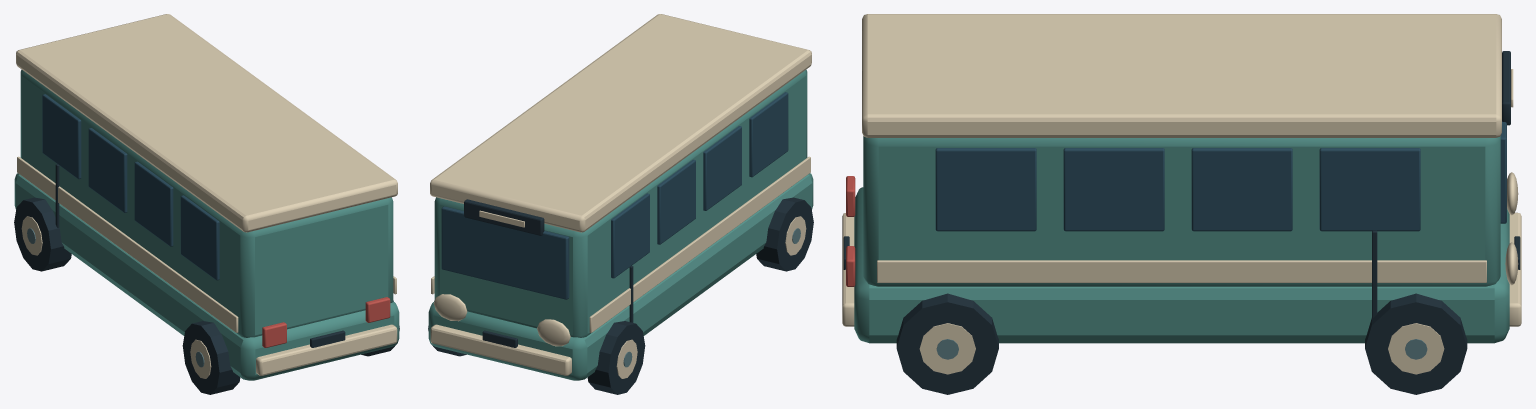
Rendered from bus.glb.
3 renders of one model, left to right at view 1: azimuth 30°, elevation 25°; view 2: azimuth 150°, elevation 25°; view 3: azimuth 270°, elevation 25°, orthographic. The views are drawn at different scales.
Parts seen in each view (by area): view 1: bus.001; view 2: bus.001; view 3: bus.001.
Part boxes in pixels (x1=…): bus.001: x1=14, y1=14, x2=399, y2=394; bus.001: x1=428, y1=14, x2=813, y2=394; bus.001: x1=842, y1=14, x2=1521, y2=394.
Size of the model in its own units: 1.95 by 1.98 by 4.51.
